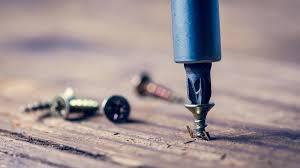screwdriver: (181, 59, 212, 105)
